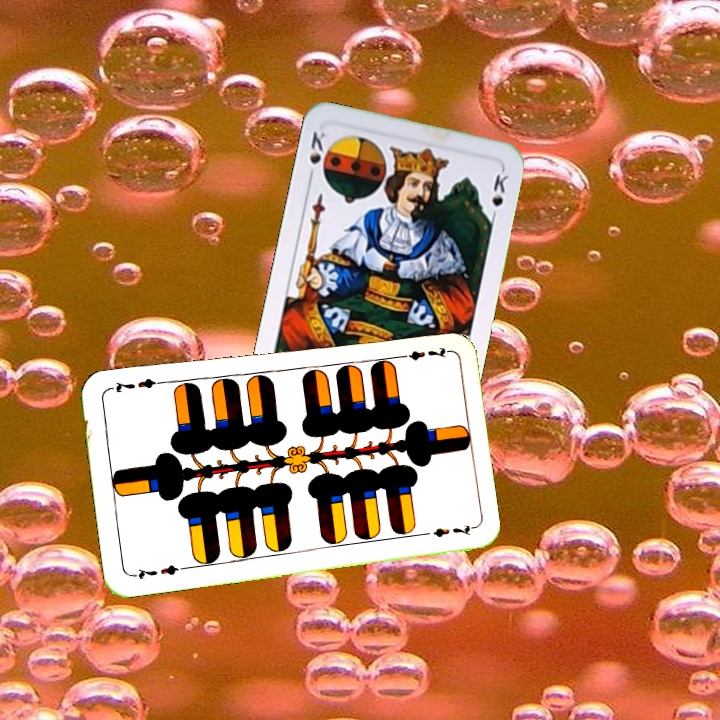E7: (391, 342, 451, 363), (128, 561, 187, 581)
SK: (304, 127, 331, 184)
